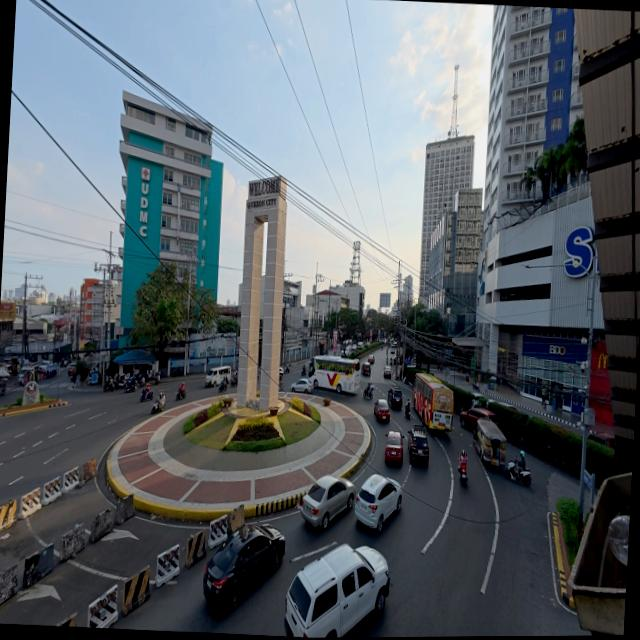bus: (409, 373, 457, 434), (310, 354, 362, 393)
car: (286, 537, 395, 638), (200, 514, 288, 620), (298, 473, 358, 531), (350, 473, 402, 533), (408, 427, 433, 465), (382, 429, 404, 465), (375, 401, 392, 424), (290, 377, 312, 394), (390, 389, 404, 409)
motorcycle: (506, 455, 534, 487), (362, 379, 376, 396)
